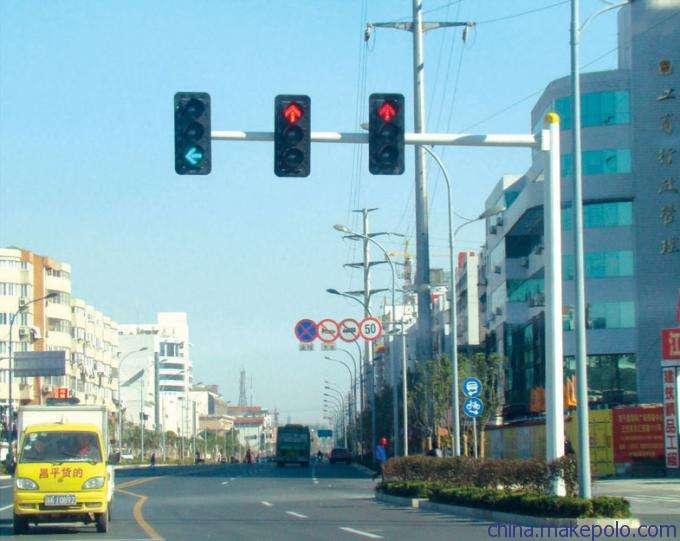green: (169, 87, 214, 179)
red: (364, 89, 411, 181), (272, 91, 314, 180)
